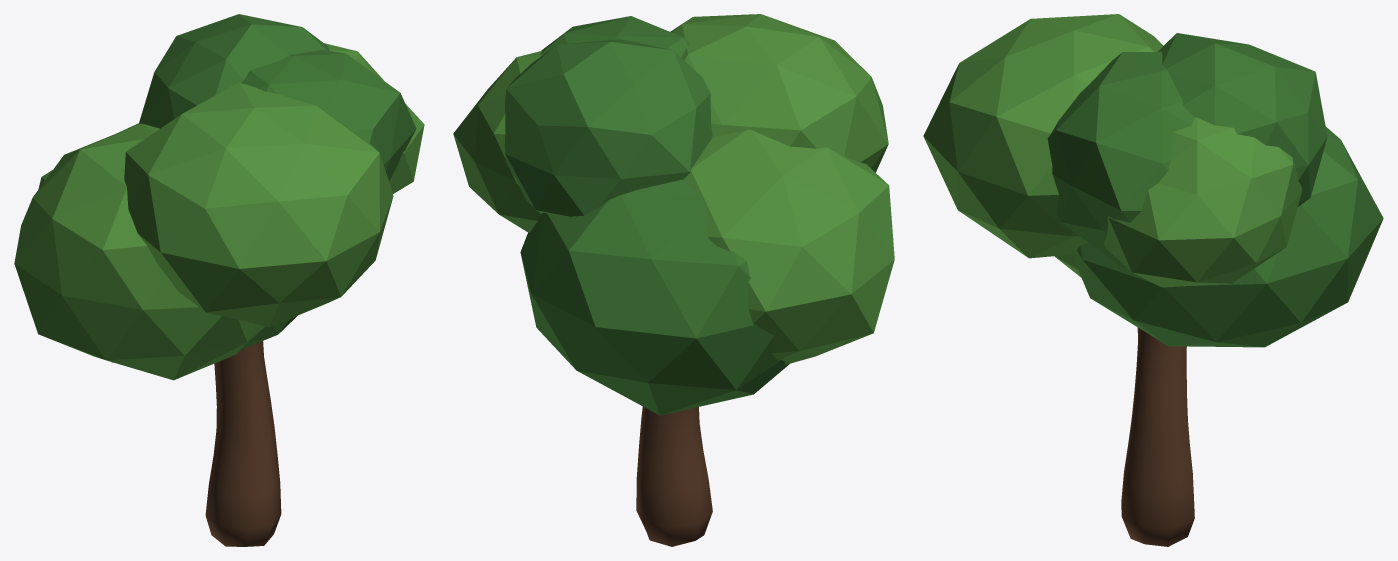
The model's file is tree_2.glb.
3 views of the same model, side by side, from view 1: azimuth 30°, elevation 25°; view 2: azimuth 150°, elevation 25°; view 3: azimuth 270°, elevation 25° (orthographic). The views are drawn at different scales.
Parts seen in each view (by area): view 1: Tree2; view 2: Tree2; view 3: Tree2.
Boxes of the visible parts, left/top/right/bottom form: Tree2: left=14, top=14, right=424, bottom=546; Tree2: left=453, top=14, right=894, bottom=546; Tree2: left=923, top=14, right=1383, bottom=546.
Bounding box in the file's own units: 3.22 × 3.98 × 3.2.
